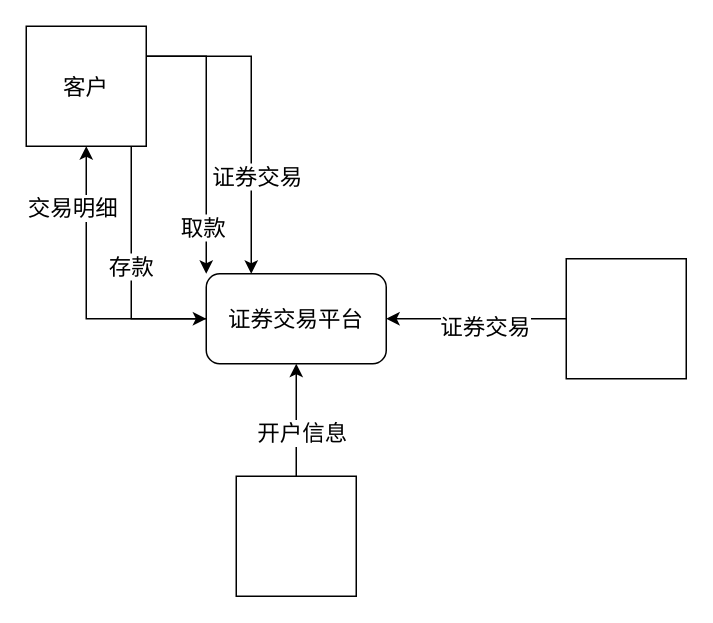
This 713x623 diagram has some shape labels left out. The centre of each missing label's shape, as x and y in pixels:
"助理" goes at pixel 295 535.
"经纪人" goes at pixel 625 318.
